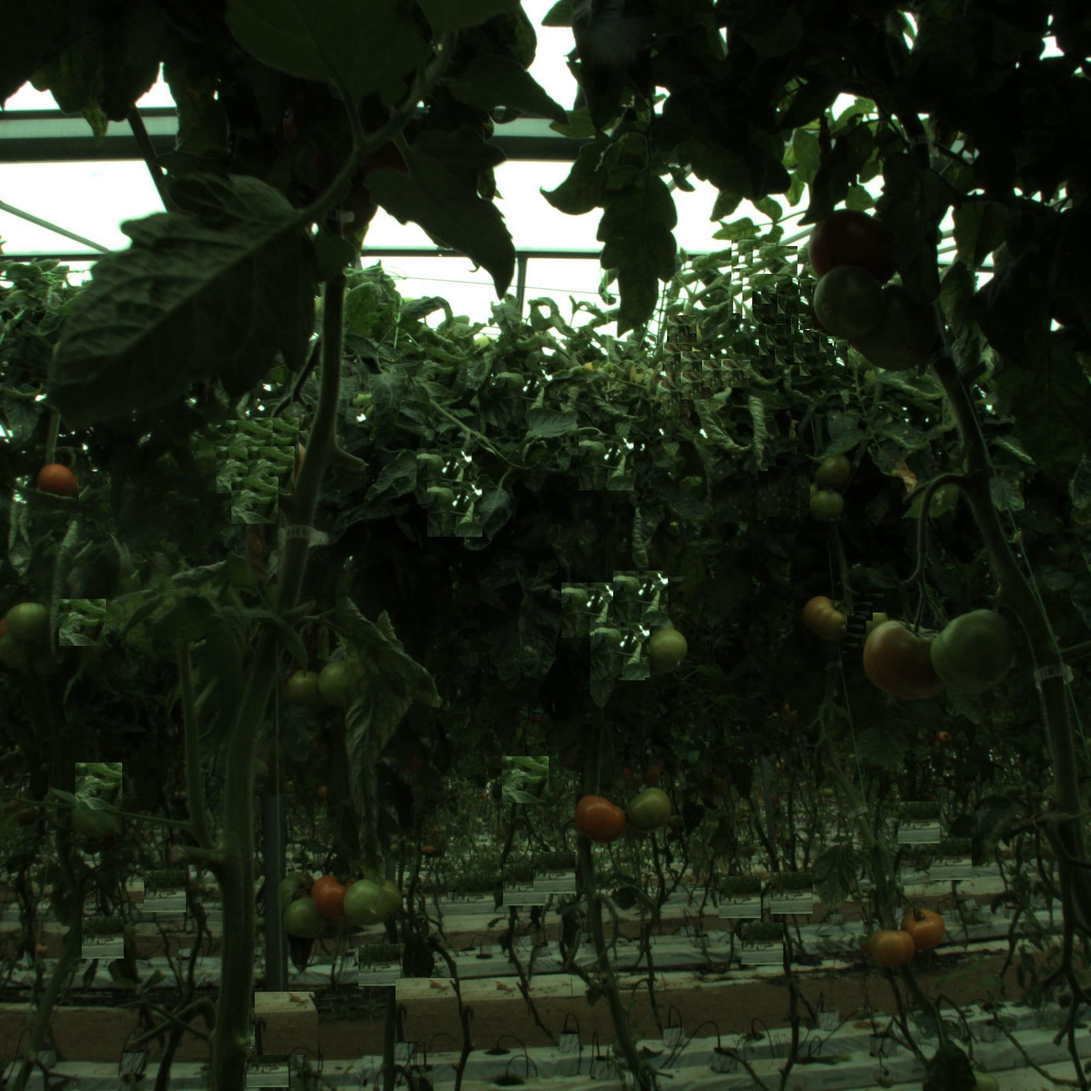fully-ripe: (577, 796, 621, 841), (309, 874, 350, 916), (41, 464, 76, 499)
semi-ripe: (811, 211, 898, 298), (862, 613, 945, 696), (800, 594, 845, 639), (870, 928, 912, 970), (346, 880, 387, 922), (904, 907, 945, 948)
unripe: (856, 291, 933, 368), (937, 612, 1011, 686), (816, 268, 884, 337), (3, 603, 48, 648), (284, 668, 329, 713), (314, 658, 359, 703), (630, 783, 675, 828), (279, 900, 324, 944), (814, 452, 855, 493), (651, 631, 686, 666), (810, 491, 843, 524)
